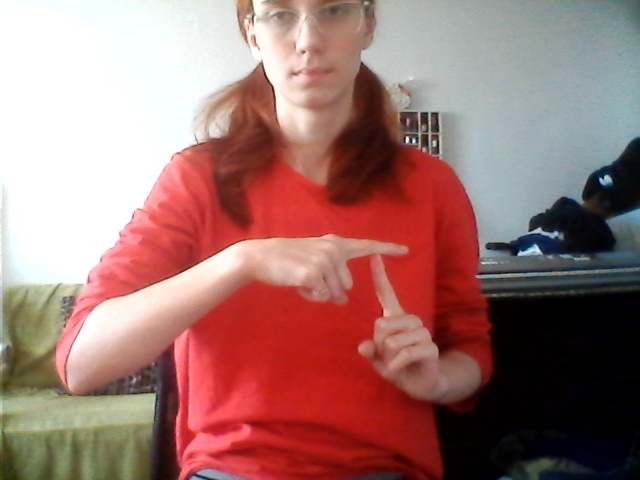t: (289, 217, 443, 403)
